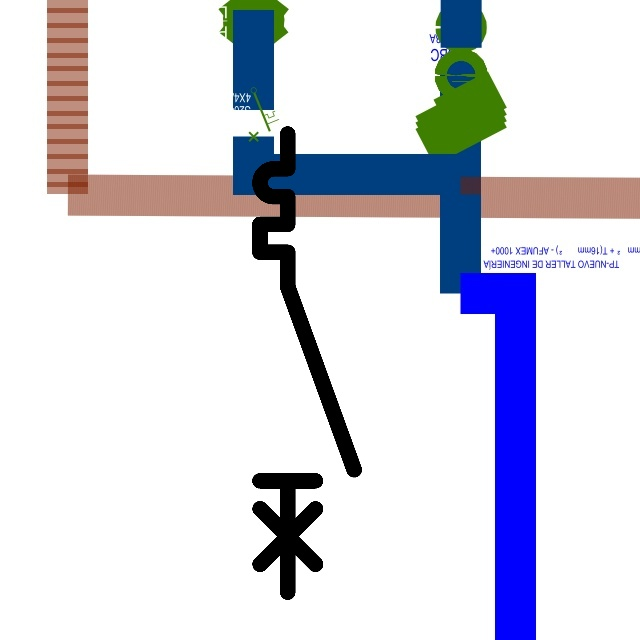interruptor_termomagnetico: (248, 122, 366, 603)
